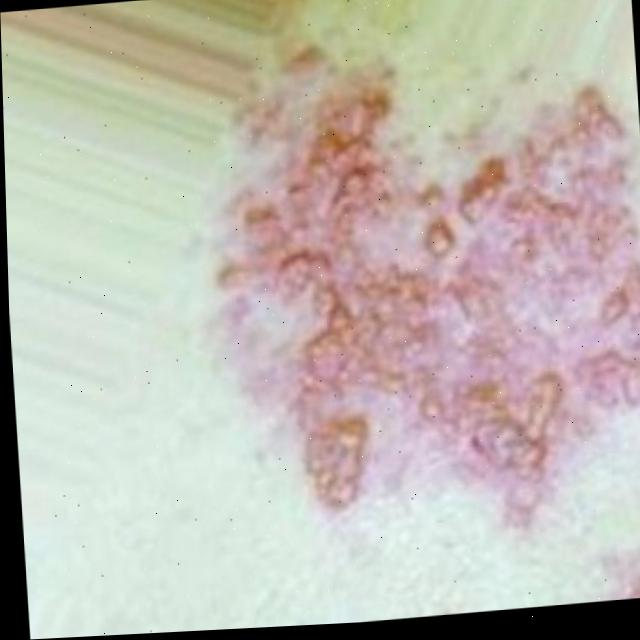Shingles: (193, 18, 640, 554), (622, 552, 640, 599)
